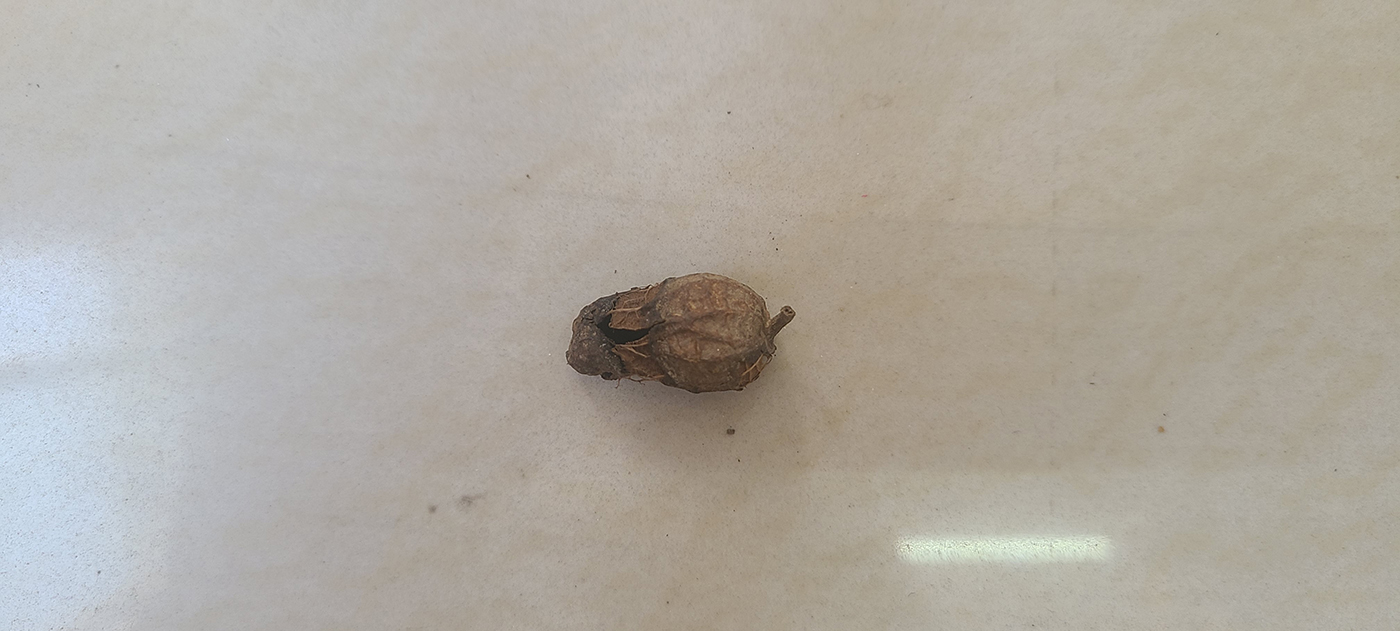l: (565, 267, 788, 392)
